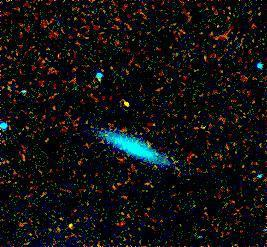star: (110, 92, 140, 122)
